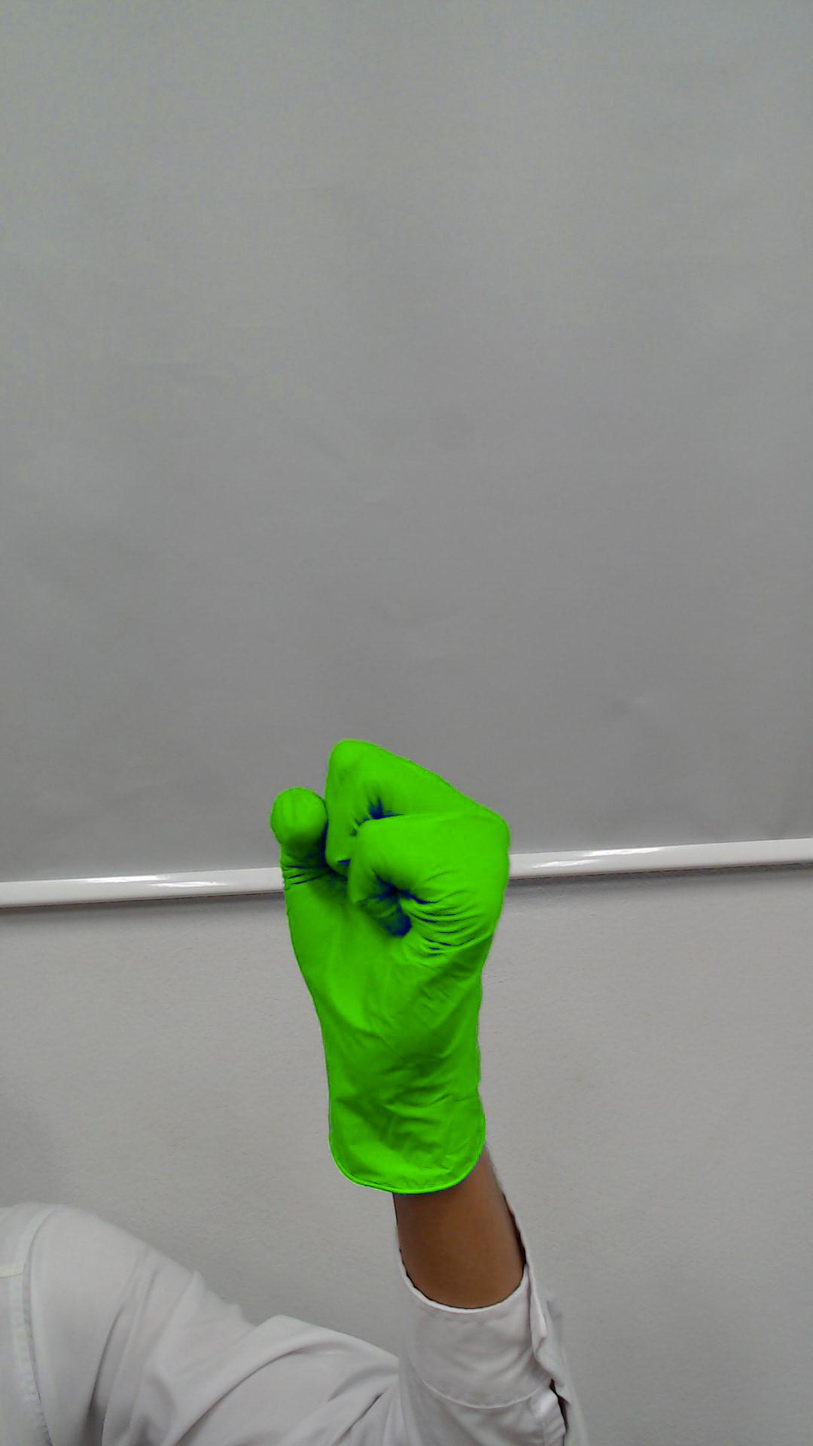gloves: (261, 727, 520, 1062)
